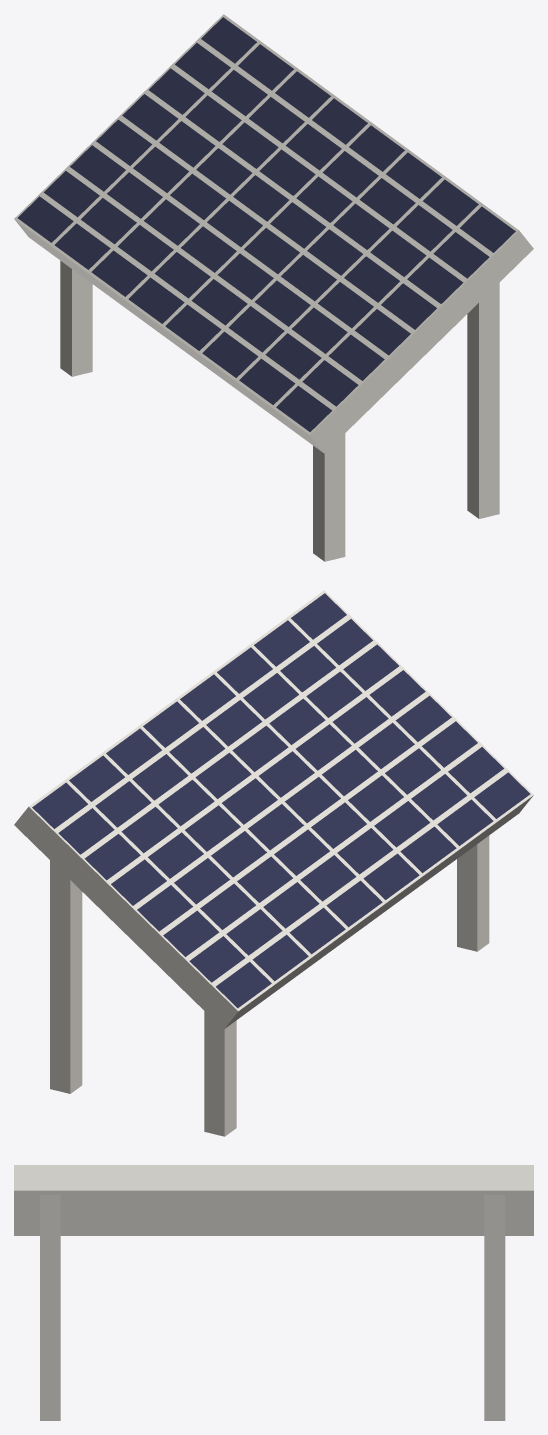
The model's file is 05 Solar_panel.FBX.
3 views of the same model, one above another, from view 1: azimuth 30°, elevation 25°; view 2: azimuth 150°, elevation 25°; view 3: azimuth 270°, elevation 25° (orthographic). The views are drawn at different scales.
Visible parts, largest first — view 1: Solar_panel; view 2: Solar_panel; view 3: Solar_panel.
Boxes of the visible parts, x1,y1,x2,y2 form: Solar_panel: [14, 14, 533, 561]; Solar_panel: [14, 590, 533, 1136]; Solar_panel: [14, 1165, 533, 1420].
Size of the model in its own units: 438 by 557 by 1000.
